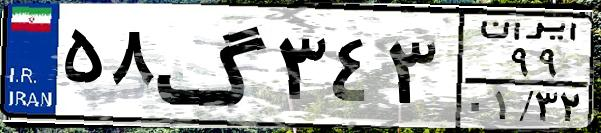0: (470, 70, 495, 125)
1: (495, 70, 520, 125)
2: (560, 70, 590, 125)
3: (270, 28, 330, 110), (385, 28, 445, 110), (535, 70, 560, 125)
4: (330, 28, 385, 110)
5: (57, 26, 110, 100)
8: (110, 28, 156, 98)
9: (537, 27, 568, 80), (508, 27, 537, 80)
گ: (156, 12, 270, 120)
